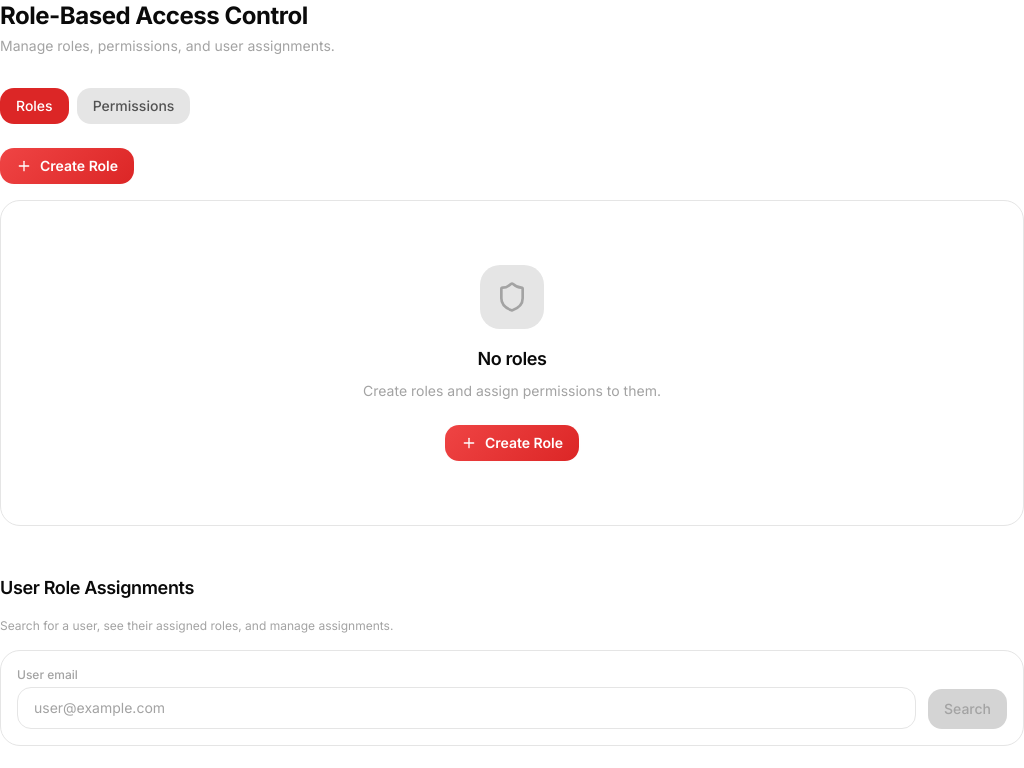
it: AdminRbacPage — roles tab › keeps Save disabled until a name is entered
This screenshot has width=1024, height=768.
Click the 1st button "Create Role": (67, 166) top-left (0, 148), bottom-right (134, 184)
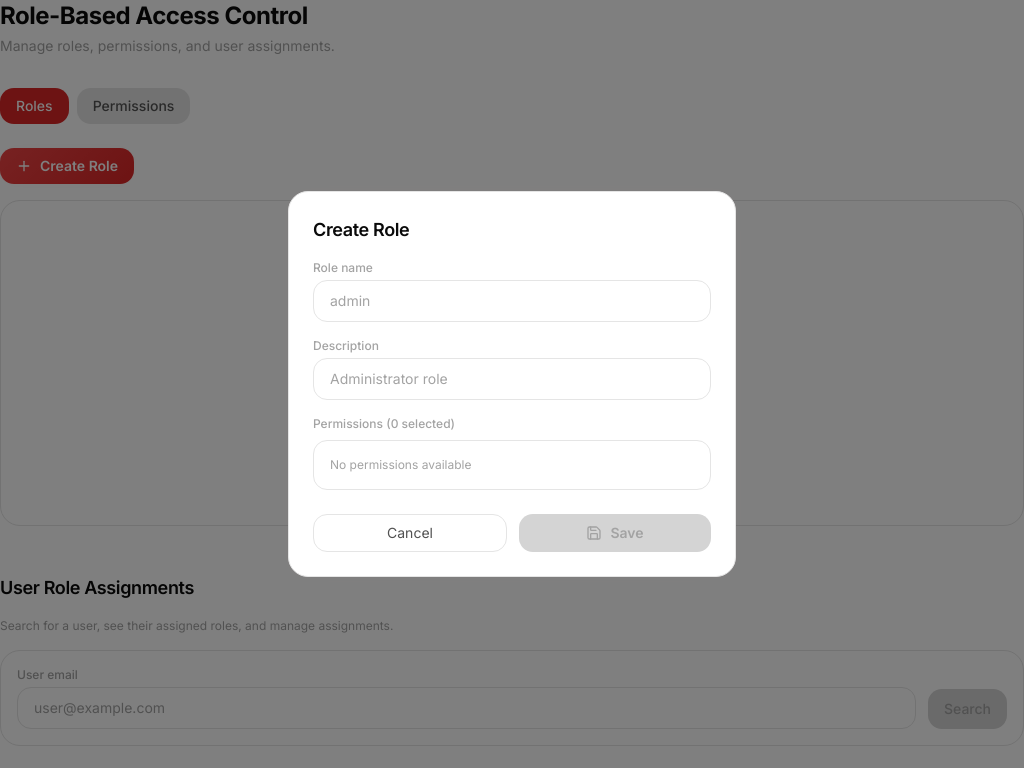
Expected: the button "Save" is disabled, top-left (519, 514), bottom-right (711, 552)
In the field with placeholder "admin": (512, 301) top-left (313, 280), bottom-right (711, 322), type "X"
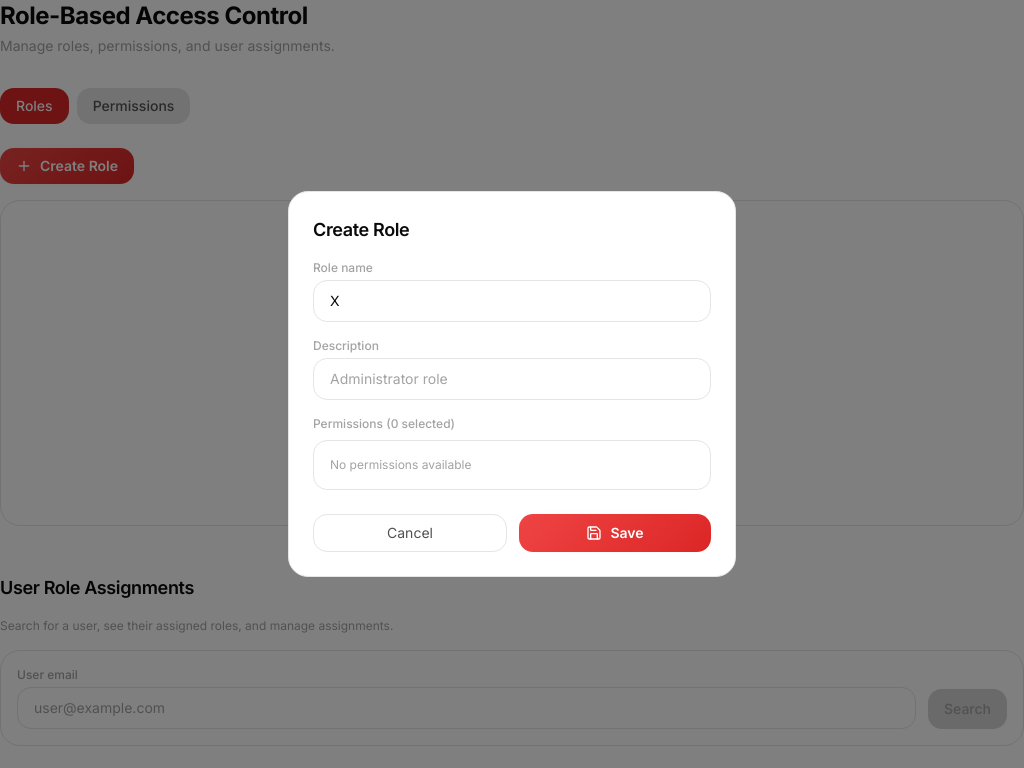
Expected: the button "Save" is enabled, top-left (519, 514), bottom-right (711, 552)
